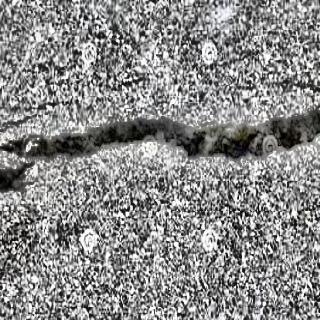pothole: (3, 110, 320, 164), (0, 164, 37, 194)
